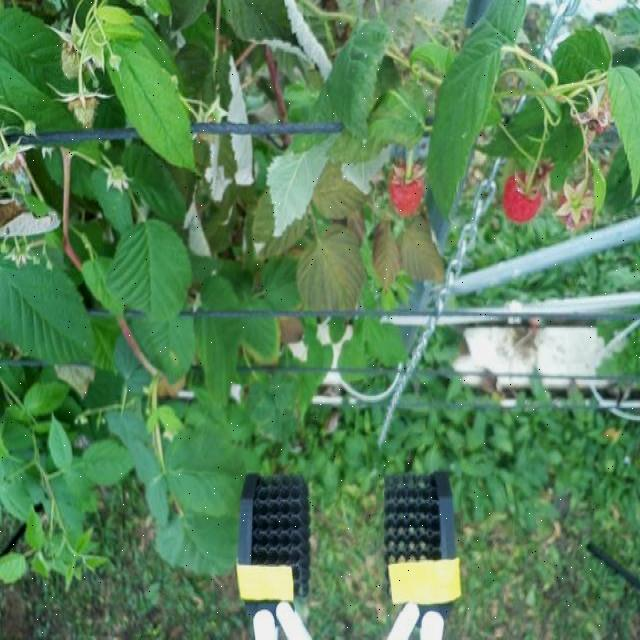Riped berries: (500, 166, 544, 226), (385, 160, 426, 219), (556, 169, 596, 225)
